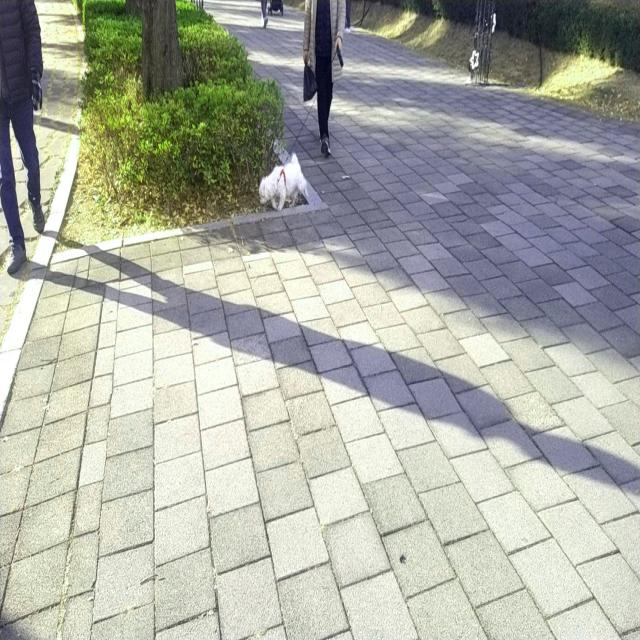Leashed_Dog: (260, 37, 344, 211)
